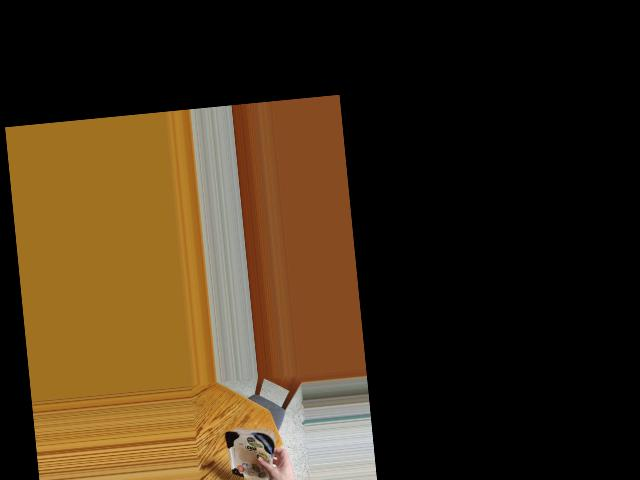cheese: (227, 421, 279, 477)
